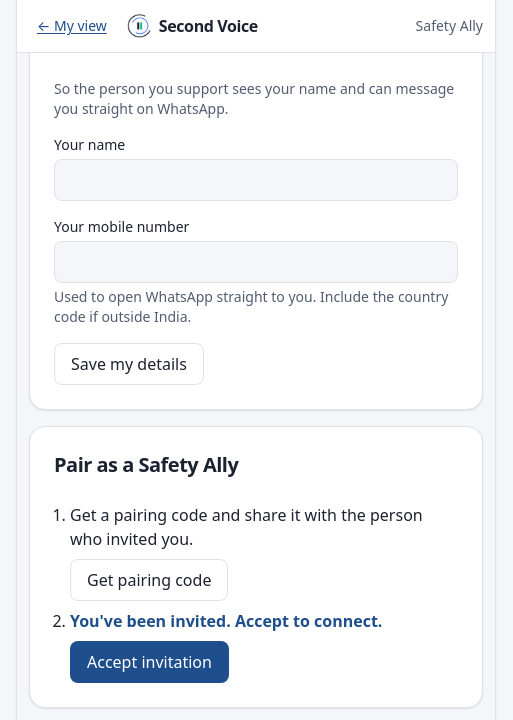
it: App · ally session pairing › discovers an invitation addressed to the ally, reflects it, and accepts via the API
(page scrolled)
Expected: the text "You've been invited. Accept to connect." is shown, [70,610,382,632]
Click the button "Accept invitation" at (149, 662), box [70,641,229,683]
(page scrolled)
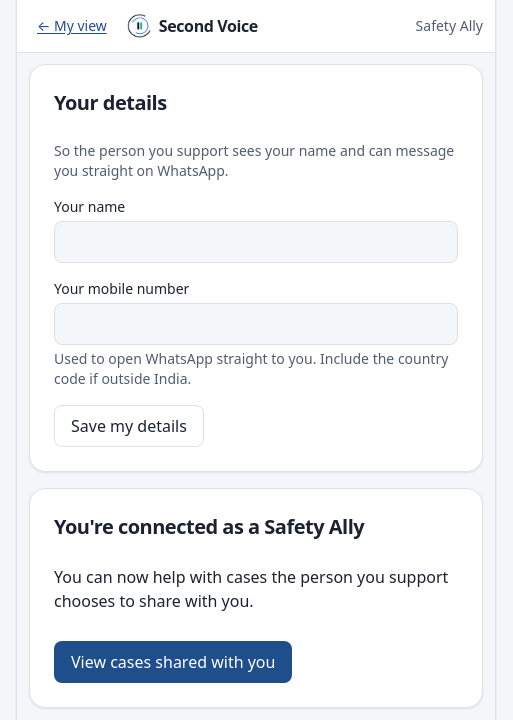
Expected: the heading "You're connected as a Safety Ally" is shown, [54,513,364,540]
